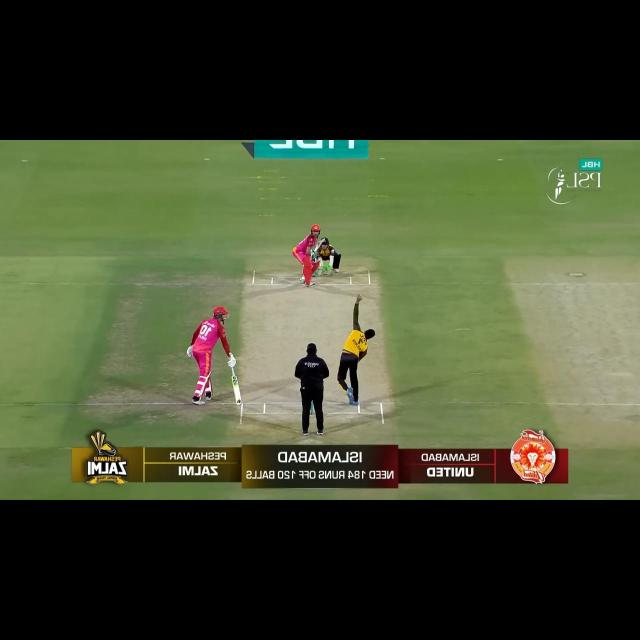bat: (231, 376, 242, 405), (313, 237, 325, 253)
toe: (234, 398, 243, 405), (320, 238, 325, 242)
